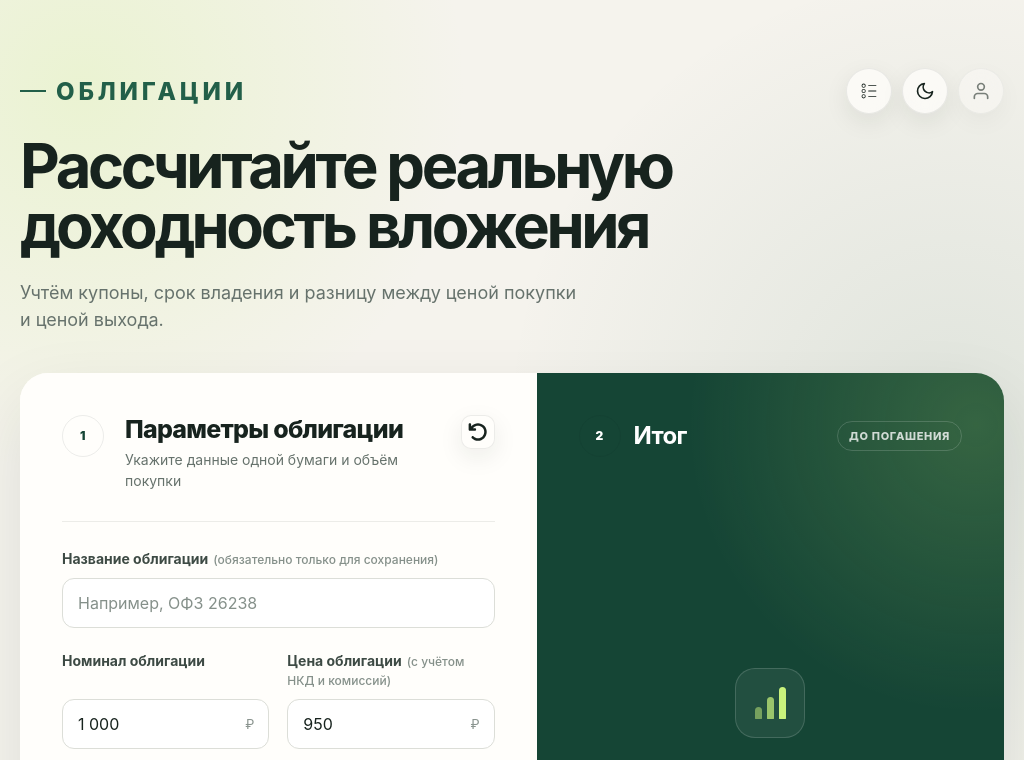
BondCalculatorPage › closes the dropdown with Escape and returns focus
This screenshot has width=1024, height=760.
Click the button named "Открыть сохранённые расчёты" at (869, 91), box [846,68,892,114]
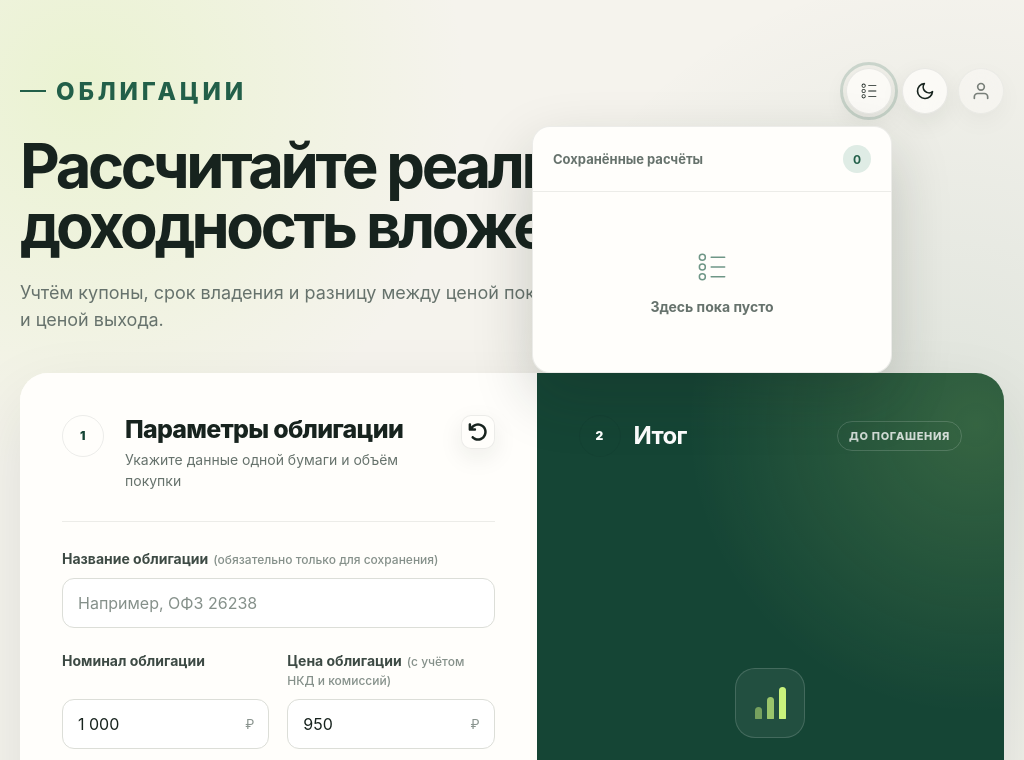
expect the text "Сохранённые расчёты" is shown: met, box [553,151,703,167]
Press Escape
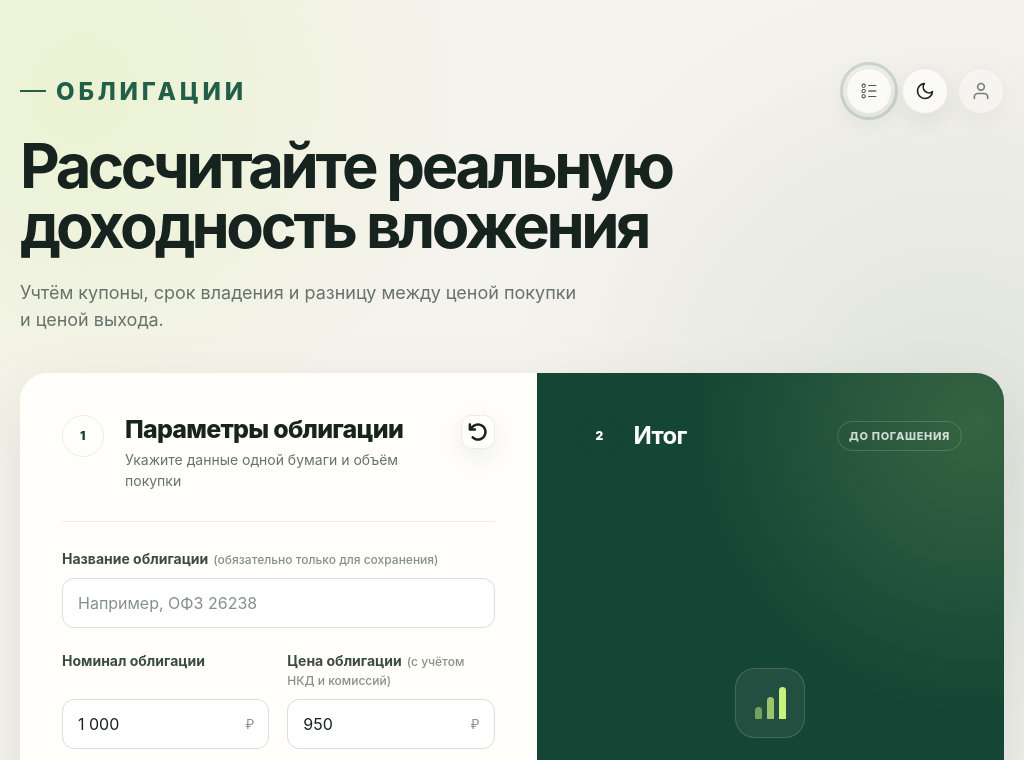
expect the text "Сохранённые расчёты" is gone: met
